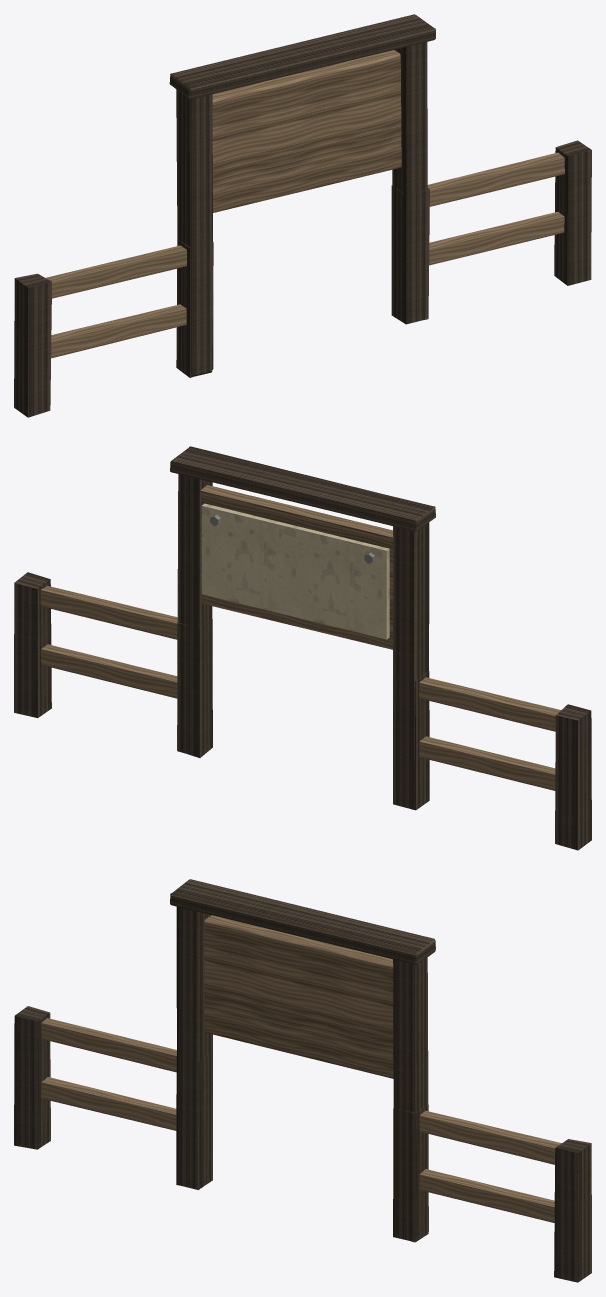
Rendered from plot_fence_sign.glb.
3 renders of one model, top to bottom at view 1: azimuth 30°, elevation 25°; view 2: azimuth 150°, elevation 25°; view 3: azimuth 330°, elevation 25°, orthographic.
Visible parts, largest first — view 1: PlotFenceSign; view 2: PlotFenceSign; view 3: PlotFenceSign.
Boxes of the visible parts, x1,y1,x2,y2 form: PlotFenceSign: (14,14,591,417); PlotFenceSign: (14,446,591,850); PlotFenceSign: (14,879,591,1282).
Size of the model in its own units: 4.1 by 2.04 by 0.2774.
4 materials, 4 textured.
